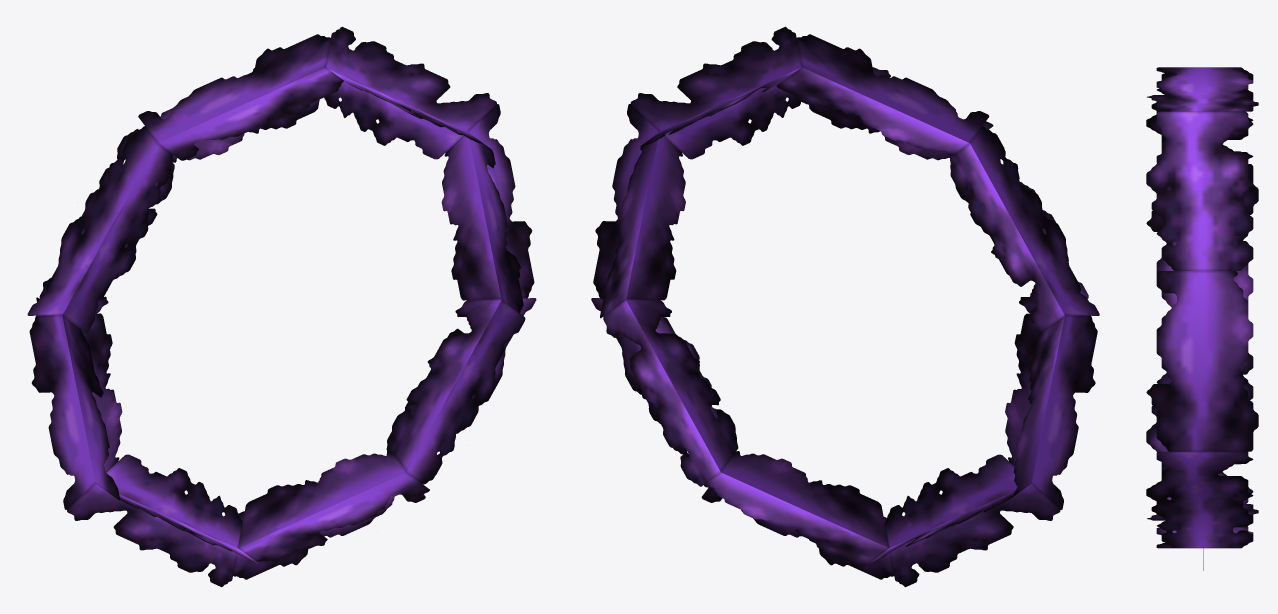
3 renders of one model, left to right at view 1: azimuth 30°, elevation 25°; view 2: azimuth 150°, elevation 25°; view 3: azimuth 270°, elevation 25°, orthographic. The views are drawn at different scales.
Parts seen in each view (by area): view 1: T1L9M001_25; view 2: T1L9M001_25; view 3: T1L9M001_25.
Part boxes in pixels (<box>): T1L9M001_25: <box>27,26,536,587</box>; T1L9M001_25: <box>591,26,1099,587</box>; T1L9M001_25: <box>1146,67,1258,570</box>.
Bounding box in the file's own units: 2.83 × 2.83 × 0.5957.
